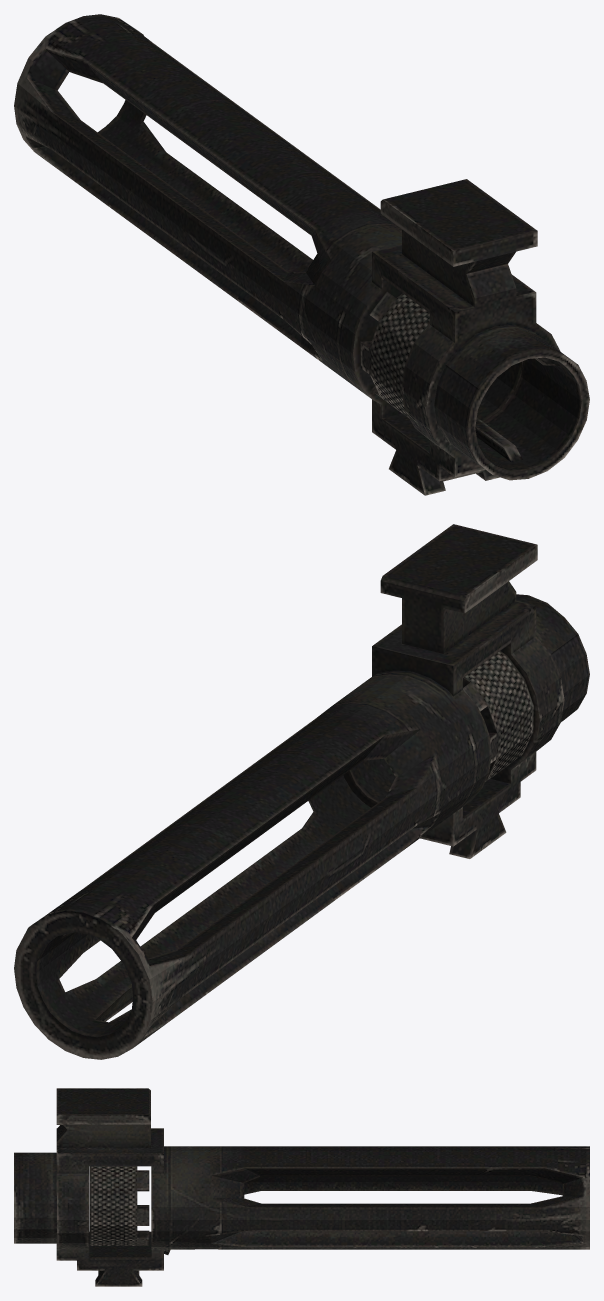
The picture shows the model from 3 angles, top to bottom: view 1: azimuth 30°, elevation 25°; view 2: azimuth 150°, elevation 25°; view 3: azimuth 270°, elevation 25°; orthographic projection. The views are drawn at different scales.
Parts seen in each view (by area): view 1: TW_5addbb6e5acfc408fb1393fd_PZ_Import; view 2: TW_5addbb6e5acfc408fb1393fd_PZ_Import; view 3: TW_5addbb6e5acfc408fb1393fd_PZ_Import.
Boxes of the visible parts, bbox=[...] form: TW_5addbb6e5acfc408fb1393fd_PZ_Import: bbox=[14, 14, 589, 495]; TW_5addbb6e5acfc408fb1393fd_PZ_Import: bbox=[14, 524, 589, 1059]; TW_5addbb6e5acfc408fb1393fd_PZ_Import: bbox=[14, 1088, 589, 1286].
Bounding box in the file's own units: 0.0121 × 0.0674 × 0.0223.
Materials: 1 (1 with a texture image).
